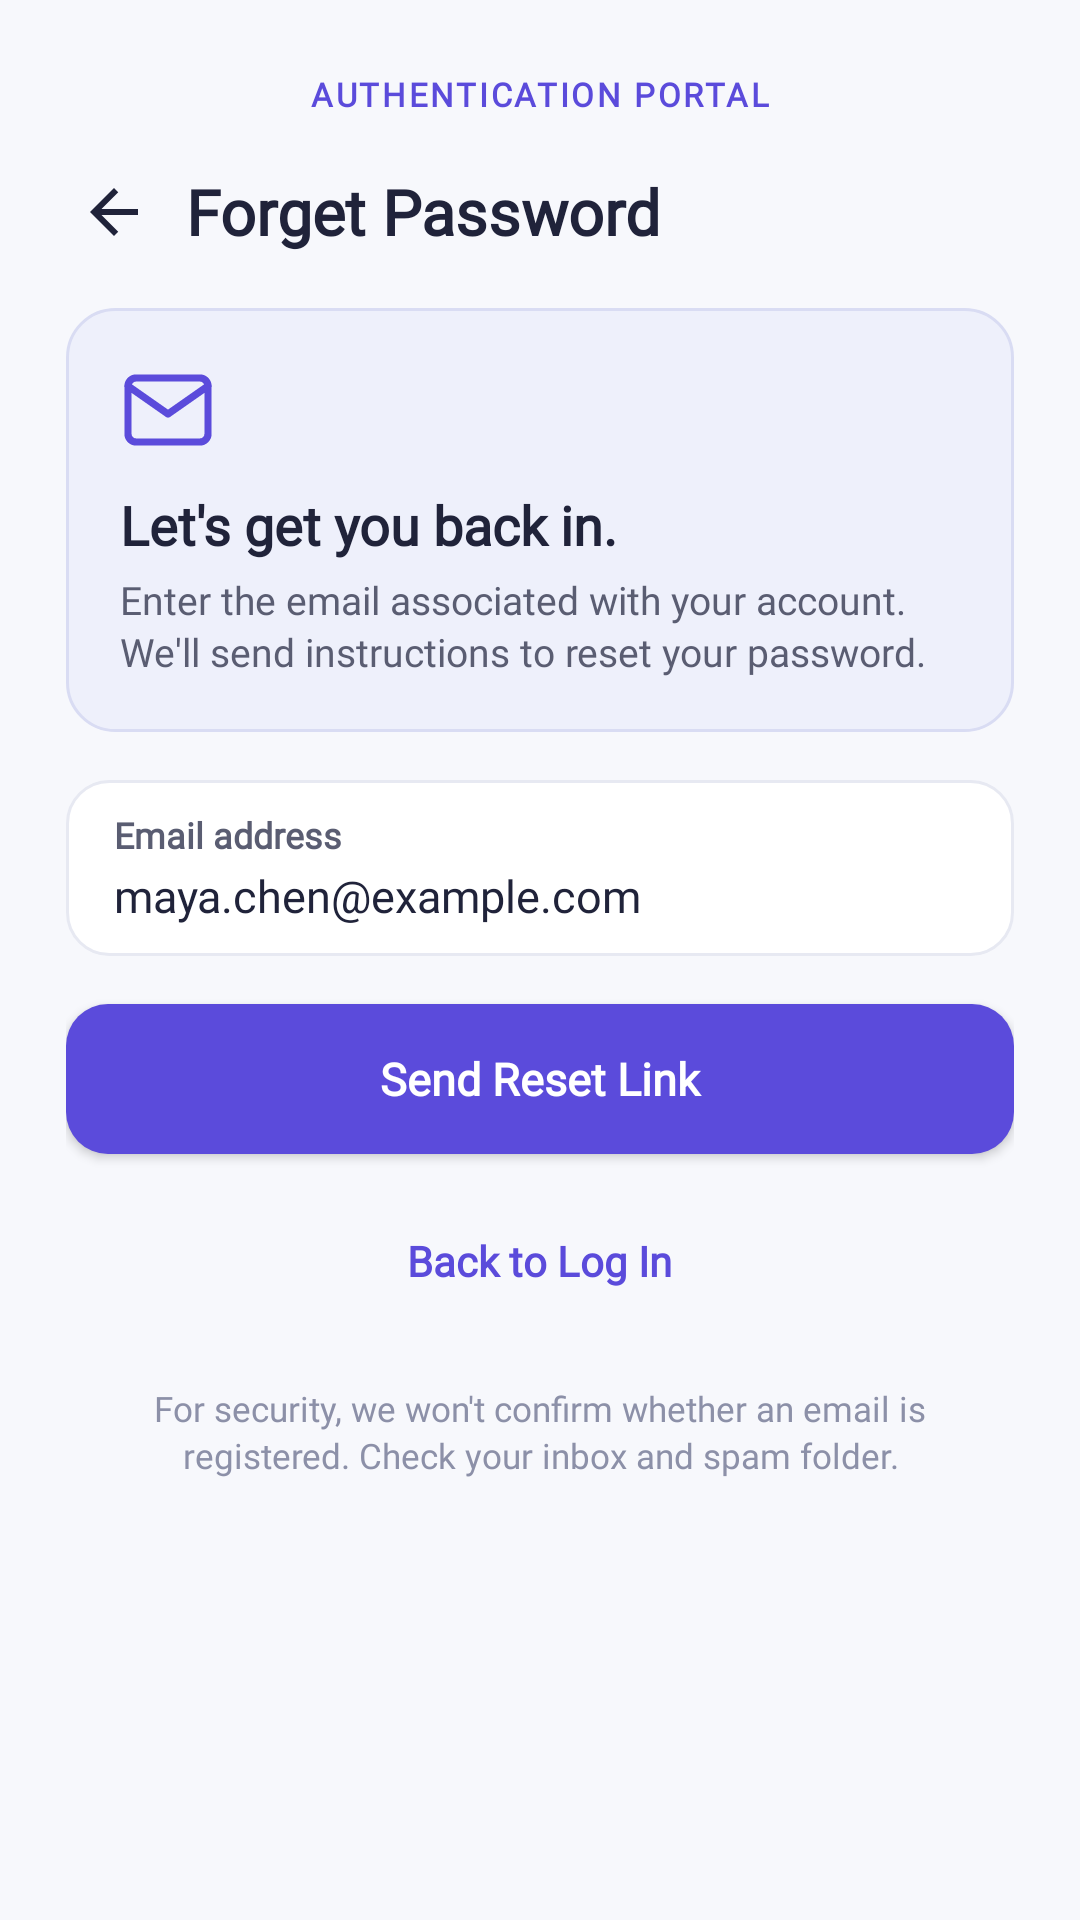

Screen size 1080w x 1920h. Icon name, then its center in pixels as (x=x, y=y):
Back: (x=114, y=212)
